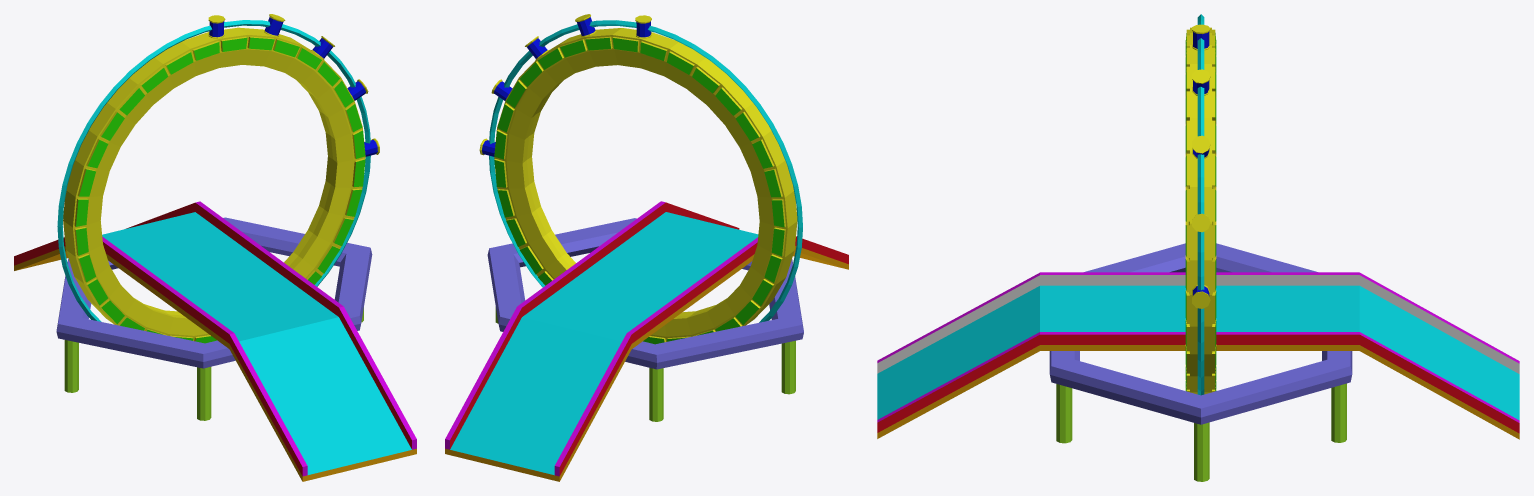
Rendered from portal_1obj.fbx.
3 views of the same model, side by side, from view 1: azimuth 30°, elevation 25°; view 2: azimuth 150°, elevation 25°; view 3: azimuth 270°, elevation 25° (orthographic). The views are drawn at different scales.
Visible parts, largest first — view 1: Circle; view 2: Circle; view 3: Circle.
Part boxes in pixels (left/top/right/bottom): Circle: left=14, top=14, right=416, bottom=481; Circle: left=445, top=14, right=848, bottom=481; Circle: left=877, top=14, right=1519, bottom=481.
Size of the model in its own units: 1200 by 1230 by 1877.
